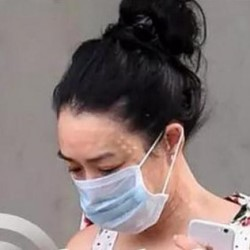mask: (57, 153, 176, 239)
